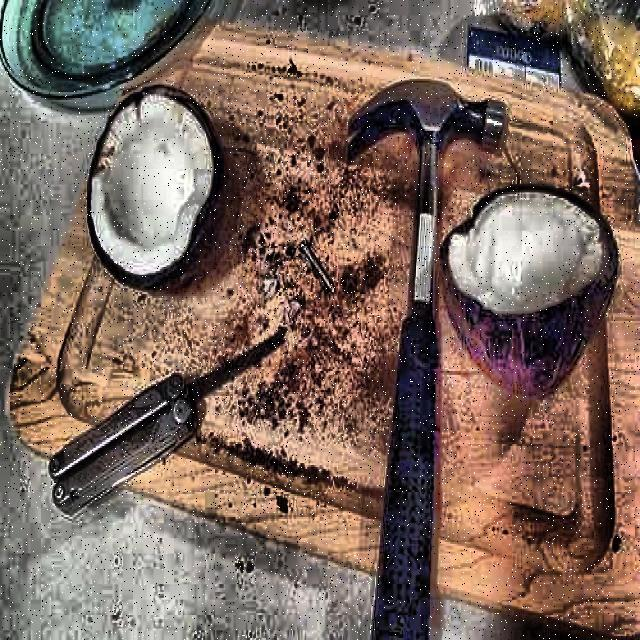hammer: (345, 77, 505, 639)
